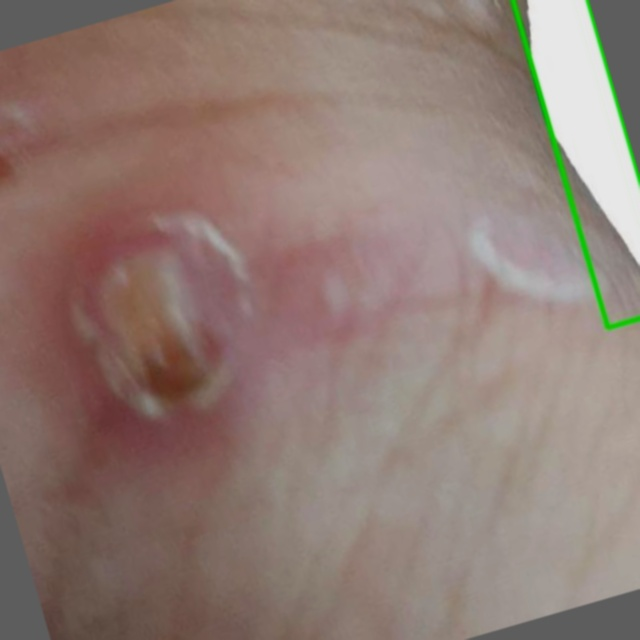Scabies: (513, 0, 639, 329)
